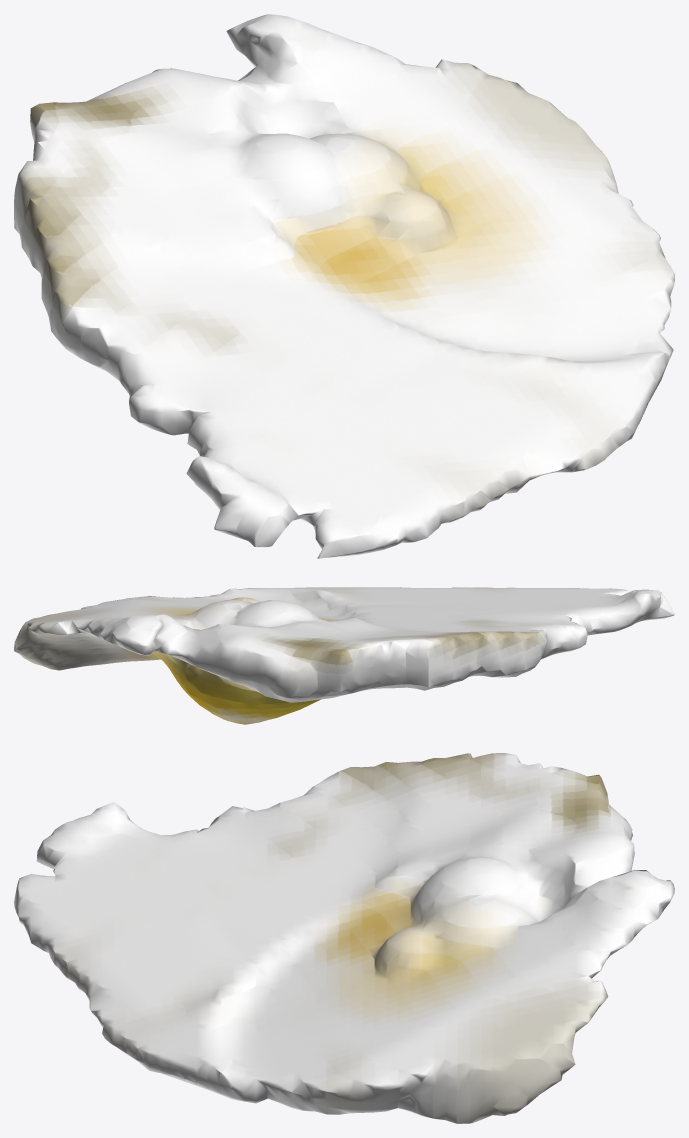
Rendered from egg.fbx.
3 views of the same model, one above another, from view 1: azimuth 30°, elevation 25°; view 2: azimuth 150°, elevation 25°; view 3: azimuth 270°, elevation 25° (orthographic). The views are drawn at different scales.
Parts seen in each view (by area): view 1: Layer_1; view 2: Layer_1; view 3: Layer_1.
Boxes of the visible parts, x1,y1,x2,y2 form: Layer_1: (14, 14, 674, 558); Layer_1: (14, 587, 674, 724); Layer_1: (14, 753, 674, 1123).
Bounding box in the file's own units: 0.3191 × 0.341 × 0.0993.
